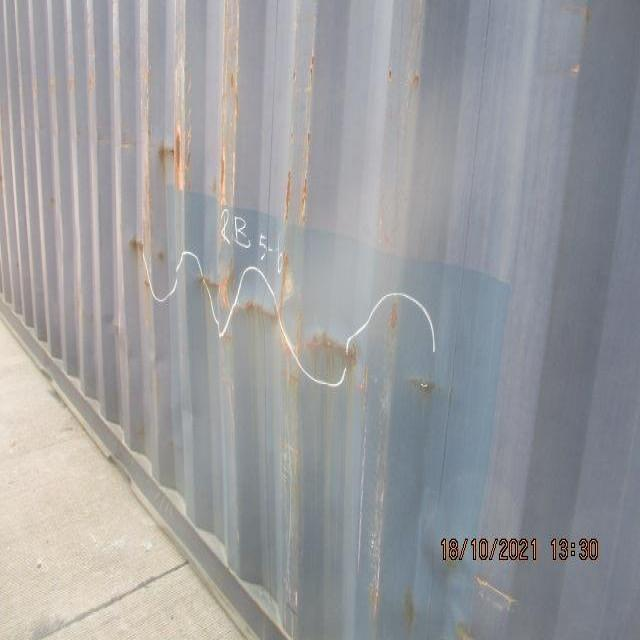Dent: (118, 194, 474, 470)
